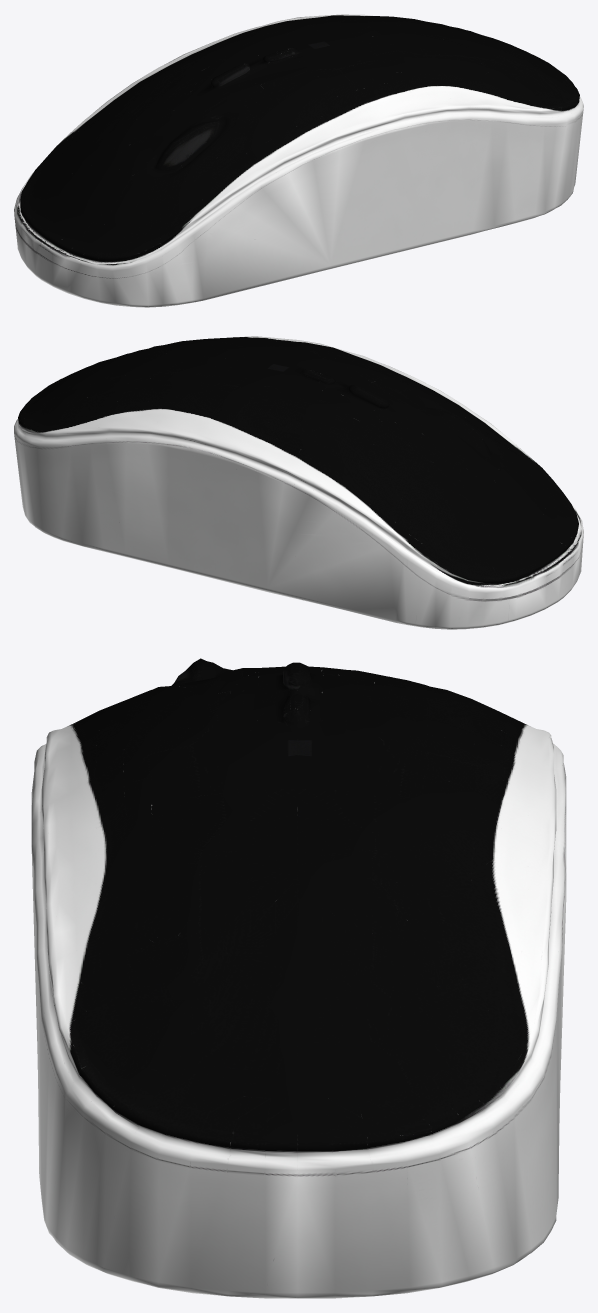
File: Meshy_AI_Positive_prompt_Low__0329203123_texture.fbx
The picture shows the model from 3 angles, top to bottom: view 1: azimuth 30°, elevation 25°; view 2: azimuth 150°, elevation 25°; view 3: azimuth 270°, elevation 25°; orthographic projection. The views are drawn at different scales.
Visible parts, largest first — view 1: Mesh_0.001; view 2: Mesh_0.001; view 3: Mesh_0.001.
Part boxes in pixels (bbox=[...]): Mesh_0.001: bbox=[14, 14, 583, 307]; Mesh_0.001: bbox=[14, 336, 583, 629]; Mesh_0.001: bbox=[31, 658, 566, 1298].
Size of the model in its own units: 9.68 by 3 by 4.27.
Materials: 1 (1 with a texture image).
